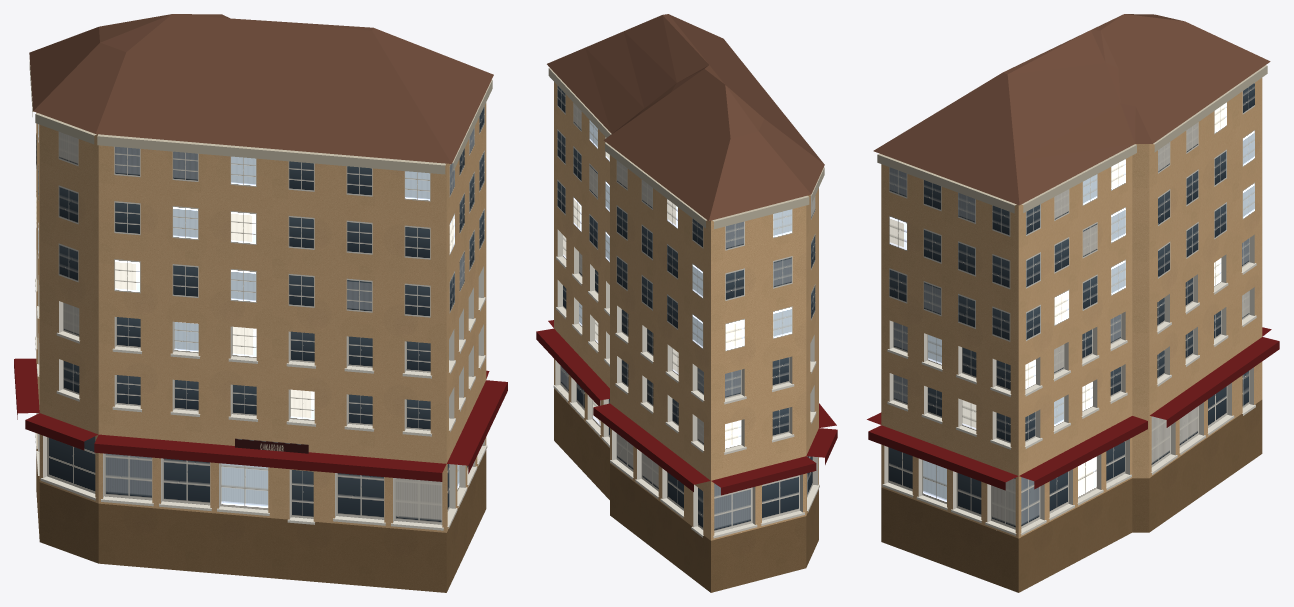
Rendered from langA_chicago.glb.
3 views of the same model, side by side, from view 1: azimuth 30°, elevation 25°; view 2: azimuth 150°, elevation 25°; view 3: azimuth 270°, elevation 25° (orthographic). The views are drawn at different scales.
Visible parts, largest first — view 1: langA_chicago; view 2: langA_chicago; view 3: langA_chicago.
Boxes of the visible parts, bbox=[...] form: langA_chicago: bbox=[14, 14, 507, 592]; langA_chicago: bbox=[536, 14, 837, 592]; langA_chicago: bbox=[867, 14, 1279, 592].
Bounding box in the file's own units: 20.96 × 25.73 × 20.66.
3 materials, 3 textured.
